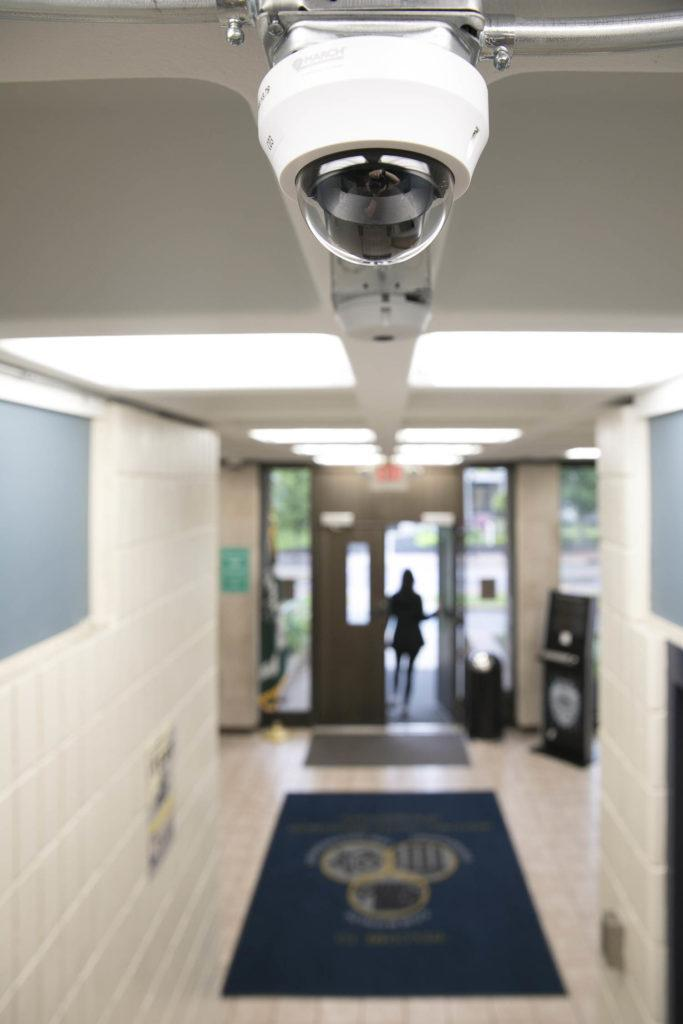CCTV: (258, 0, 488, 265)
